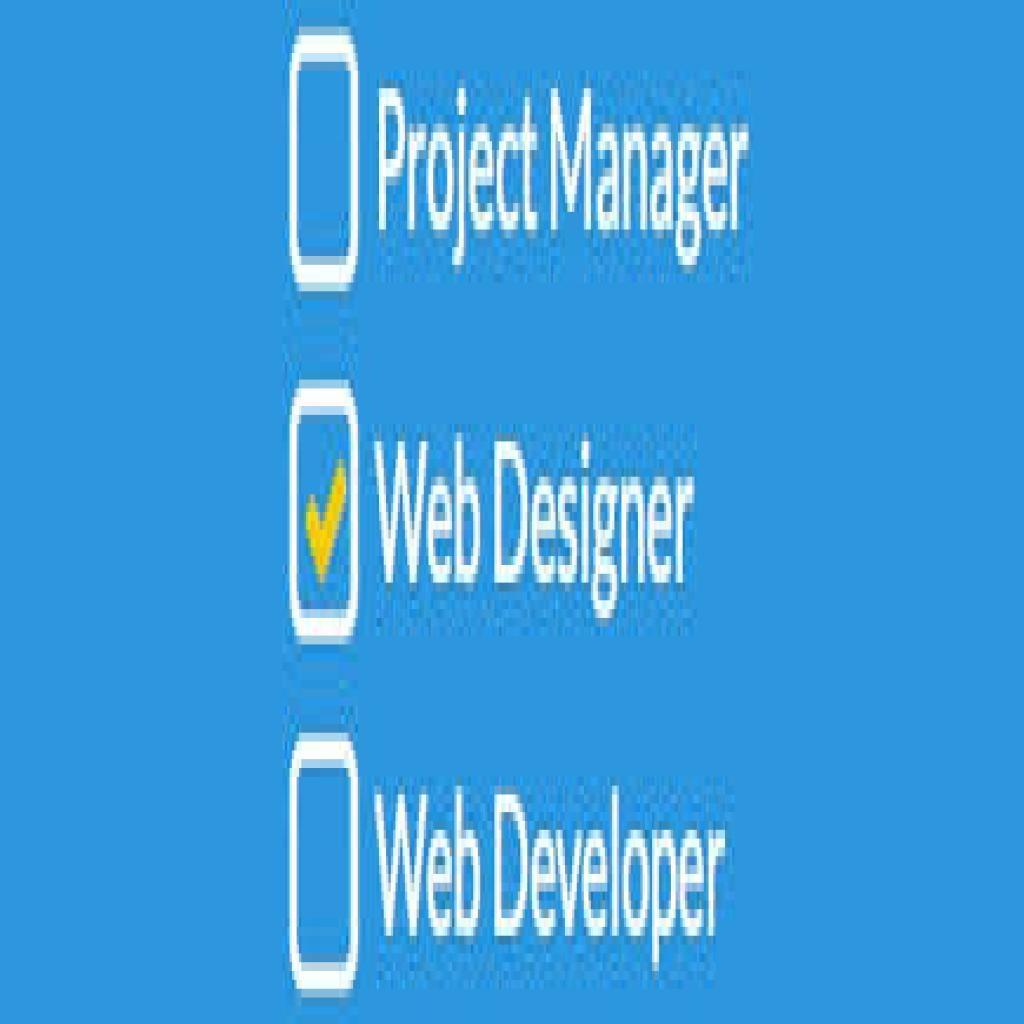checkbox: (286, 22, 362, 295), (288, 375, 361, 649), (290, 731, 361, 1000)
label: (377, 82, 754, 272), (371, 784, 730, 975), (371, 435, 703, 626)
